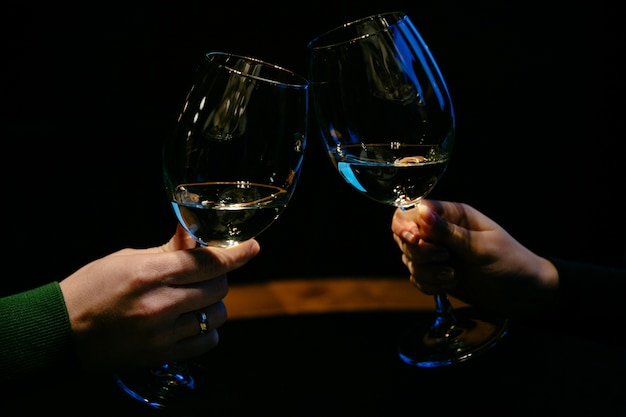alcohol: (301, 11, 511, 369), (113, 46, 314, 411)
